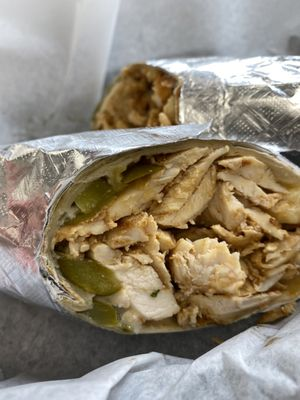soup: (19, 127, 300, 335)
